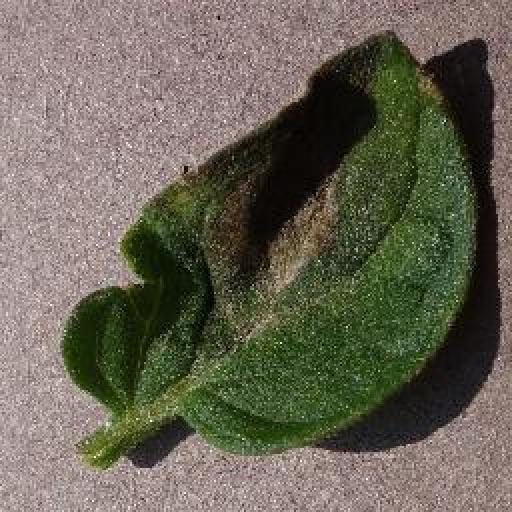Late Blight: (64, 27, 481, 457)
